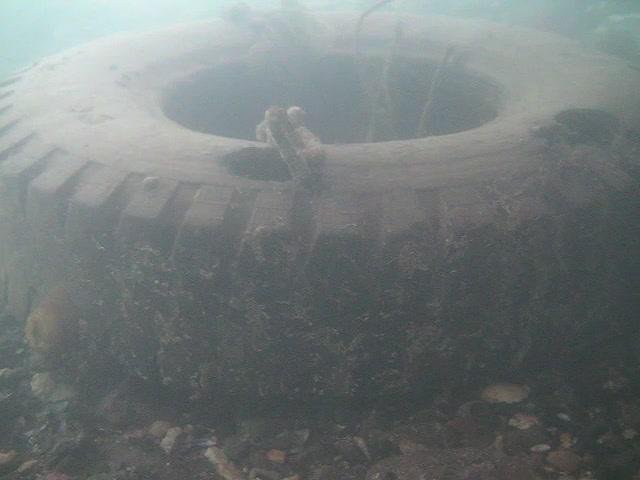tire: (0, 8, 640, 403)
